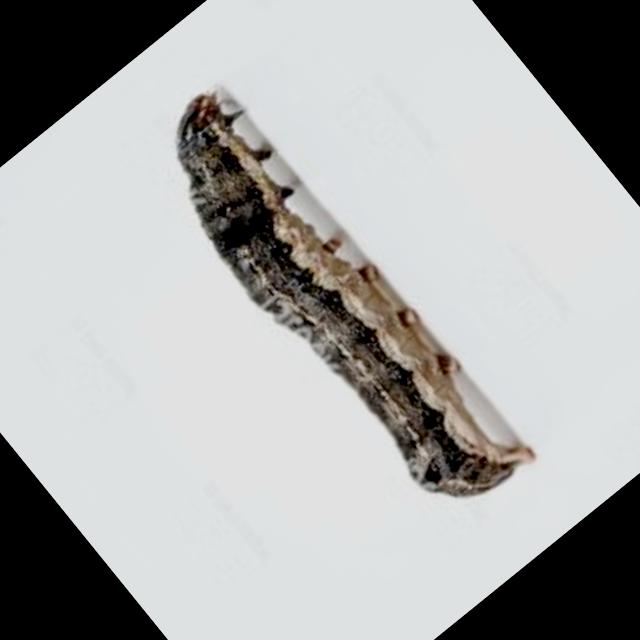Tobacco cutworm: (62, 14, 606, 594)
